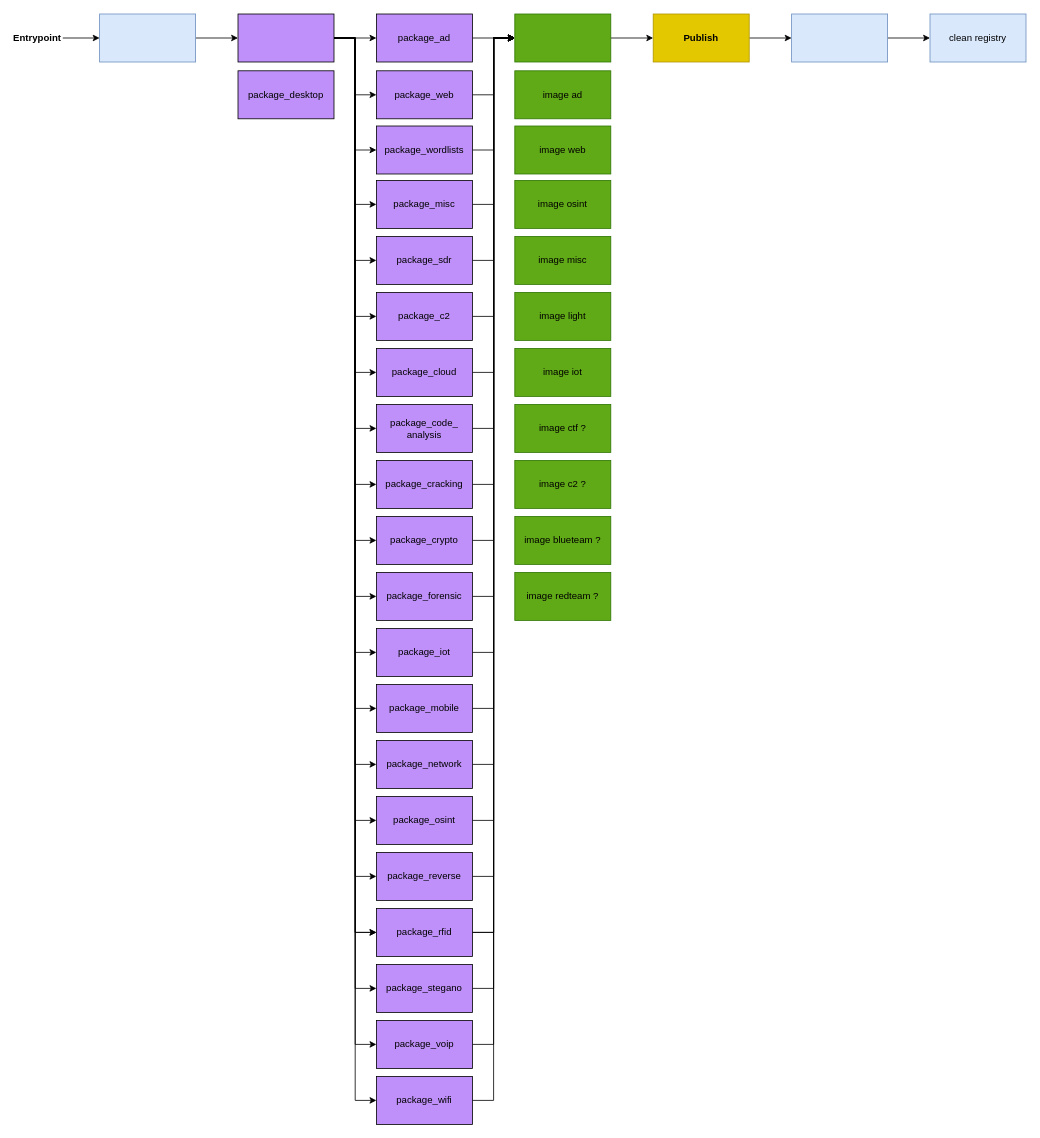
This 1040x1138 diagram has some shape labels left out. The centre of each missing label's shape, as x and y in pixels:
"clean runner" belongs at point 839,37.
"image nightly" belongs at point 562,37.
"package_base" belongs at point 285,37.
"varset" belongs at point 147,37.
